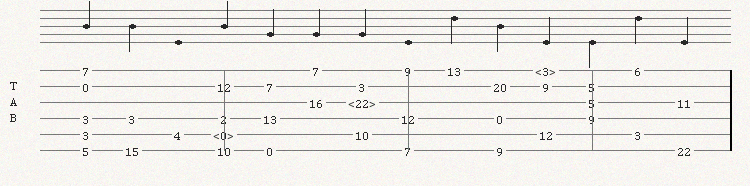0: (82, 80, 93, 92), (266, 144, 277, 156), (496, 112, 507, 124)
10: (217, 144, 235, 156), (355, 128, 373, 140)
11: (677, 96, 695, 108)
12: (217, 80, 235, 92), (401, 112, 419, 124), (539, 128, 557, 140)
13: (263, 112, 281, 124), (447, 64, 465, 76)
15: (125, 144, 143, 156)
16: (309, 96, 327, 108)
2: (220, 112, 231, 124)
20: (493, 80, 511, 92)
22: (677, 144, 695, 156)
3: (82, 112, 93, 124), (82, 128, 93, 140), (128, 112, 139, 124), (358, 80, 369, 92), (634, 128, 645, 140)
4: (174, 128, 185, 140)
5: (82, 144, 93, 156), (588, 96, 599, 108), (588, 80, 599, 92)
6: (634, 64, 645, 76)
7: (82, 64, 93, 76), (266, 80, 277, 92), (312, 64, 323, 76), (404, 144, 415, 156)
9: (404, 64, 415, 76), (496, 144, 507, 156), (542, 80, 553, 92), (588, 112, 599, 124)
harmonic: (348, 96, 380, 108), (213, 128, 238, 140), (535, 64, 560, 76)
